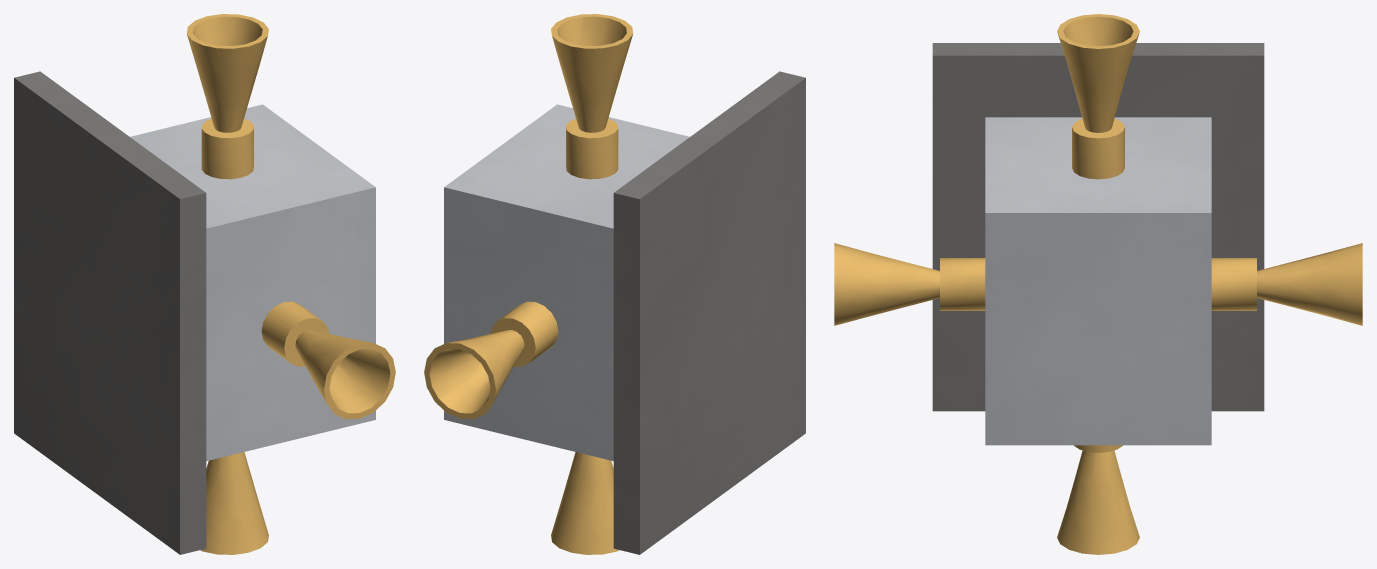
File: prop00_rcs_quad.glb
3 views of the same model, side by side, from view 1: azimuth 30°, elevation 25°; view 2: azimuth 150°, elevation 25°; view 3: azimuth 270°, elevation 25° (orthographic).
Parts seen in each view (by area): view 1: mount_plate, housing, thrusters; view 2: mount_plate, housing, thrusters; view 3: housing, mount_plate, thrusters.
Boxes of the visible parts, box(x1,y1,x2,y2) form: mount_plate: box(14, 71, 206, 554); housing: box(130, 104, 375, 460); thrusters: box(186, 14, 395, 554); mount_plate: box(613, 71, 805, 554); housing: box(444, 104, 689, 460); thrusters: box(424, 14, 633, 554); housing: box(985, 117, 1211, 445); mount_plate: box(932, 43, 1264, 411); thrusters: box(834, 14, 1362, 554).
Bounding box in the file's own units: 0.34 × 0.74 × 0.7.
3 materials, 3 textured.
